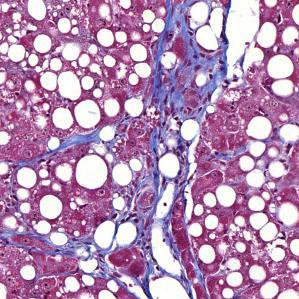fibrosis: (146, 22, 228, 120)
